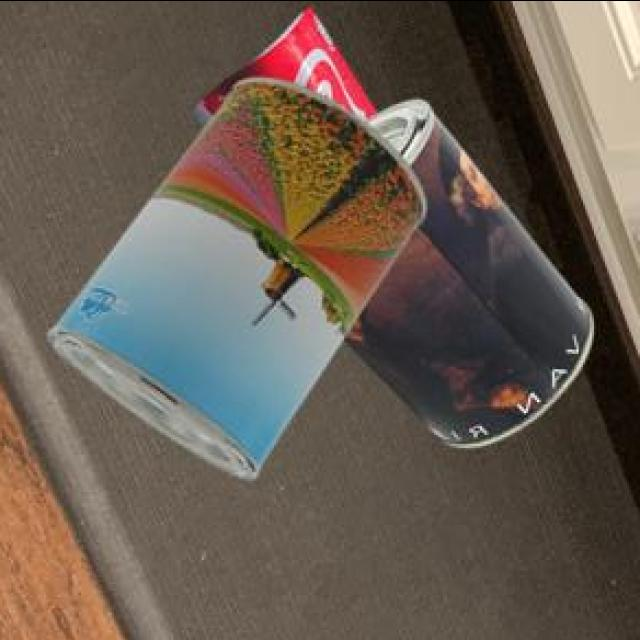logam: (52, 82, 428, 481), (347, 102, 597, 450), (196, 10, 380, 130)
